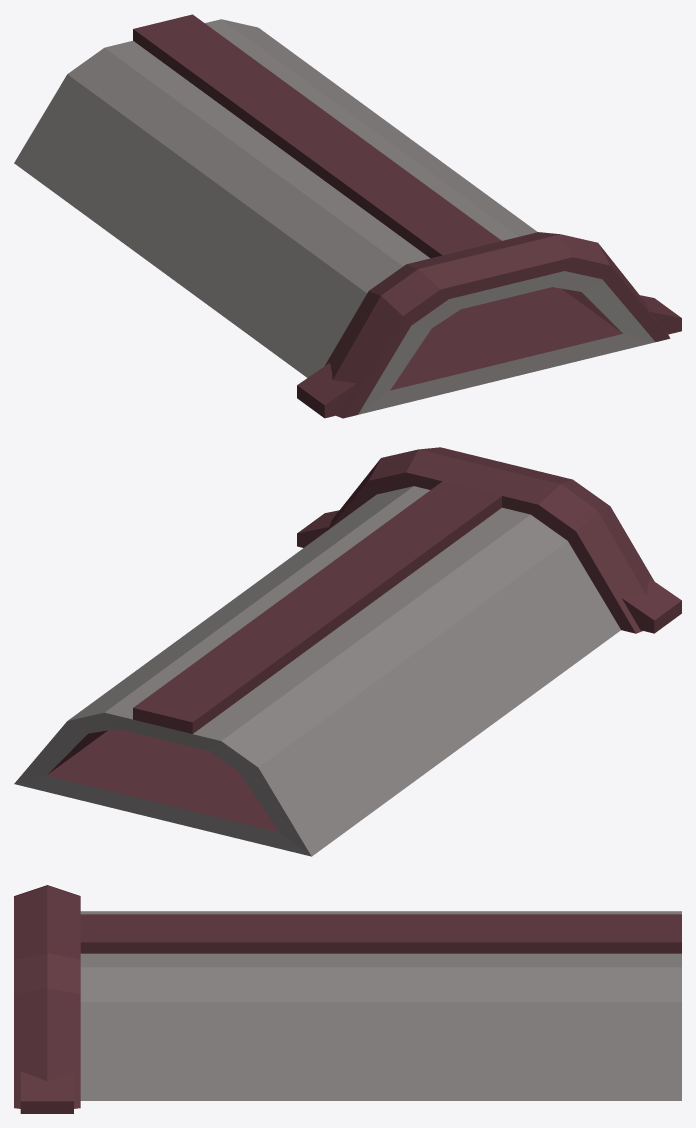
File: scifi-vent-long.fbx
The picture shows the model from 3 angles, top to bottom: view 1: azimuth 30°, elevation 25°; view 2: azimuth 150°, elevation 25°; view 3: azimuth 270°, elevation 25°; orthographic projection. The views are drawn at different scales.
Parts seen in each view (by area): view 1: scifi-vent-long; view 2: scifi-vent-long; view 3: scifi-vent-long.
Boxes of the visible parts, box(x1,y1,x2,y2) form: scifi-vent-long: box(14, 14, 681, 418); scifi-vent-long: box(14, 447, 681, 856); scifi-vent-long: box(14, 885, 681, 1113).
Size of the model in its own units: 1.2 by 0.3671 by 2.
